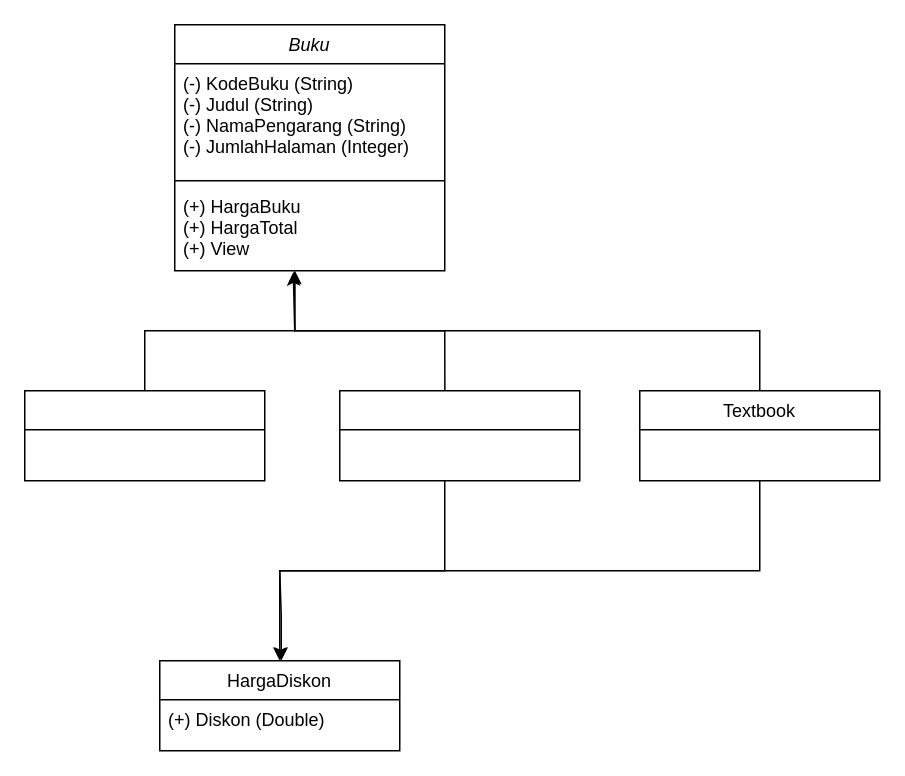
Some shapes in this 905 by 776 pixel diagram are drawn without their labels. Here are the shapes that lost their labels. From the top down, the centre of each, then its label:
At (144,435): "Komik".
At (459,435): "Majalah".
